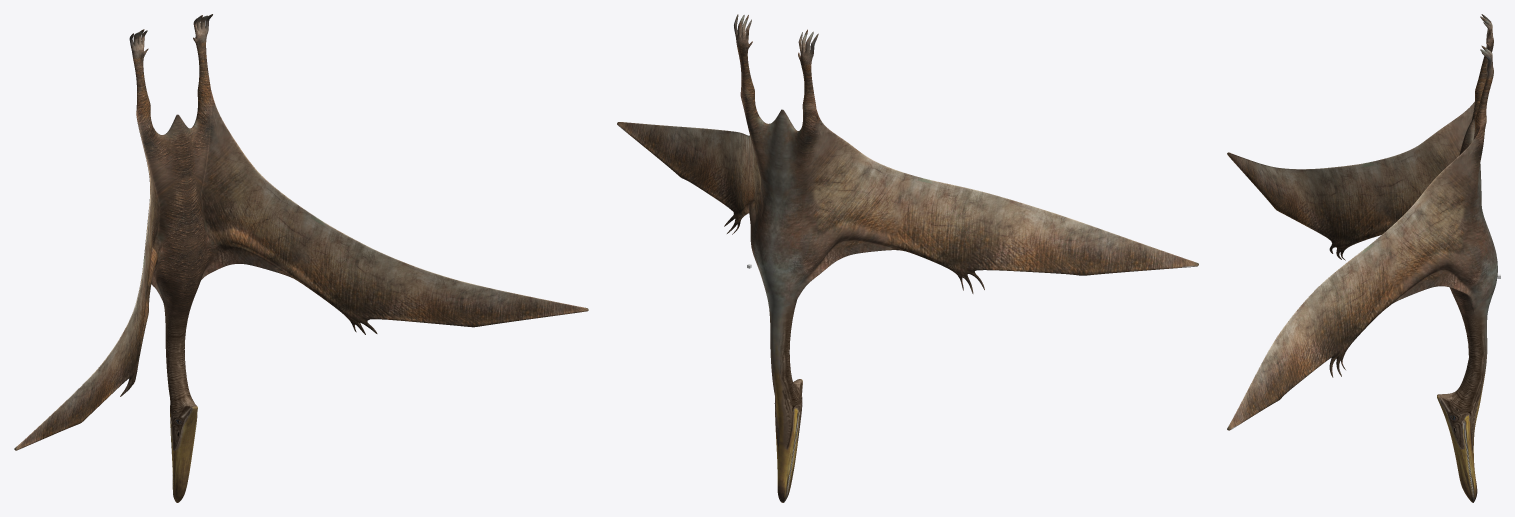
The model's file is quetzalcoatlus.glb.
The picture shows the model from 3 angles, left to right: view 1: azimuth 30°, elevation 25°; view 2: azimuth 150°, elevation 25°; view 3: azimuth 270°, elevation 25°; orthographic projection. The views are drawn at different scales.
Visible parts, largest first — view 1: 13623_Quetzalcoatlus_v1_L2; view 2: 13623_Quetzalcoatlus_v1_L2; view 3: 13623_Quetzalcoatlus_v1_L2.
Part boxes in pixels (x1=…): 13623_Quetzalcoatlus_v1_L2: x1=14, y1=14, x2=588, y2=502; 13623_Quetzalcoatlus_v1_L2: x1=617, y1=14, x2=1198, y2=502; 13623_Quetzalcoatlus_v1_L2: x1=1227, y1=14, x2=1497, y2=502.
Size of the model in its own units: 406 by 323 by 170.
Materials: 2 (1 with a texture image).
